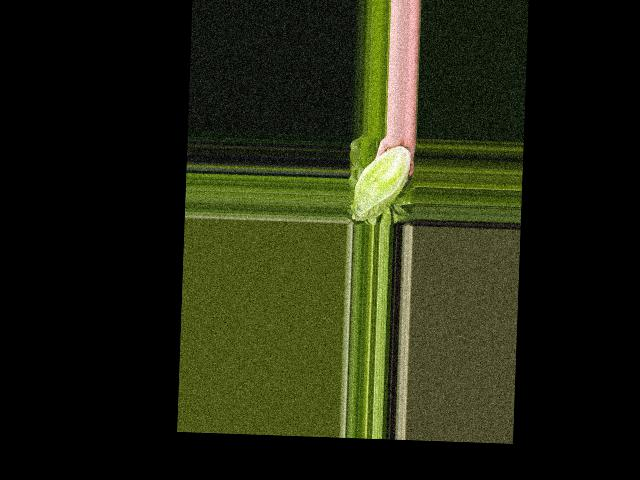lettuce: (351, 143, 413, 222)
